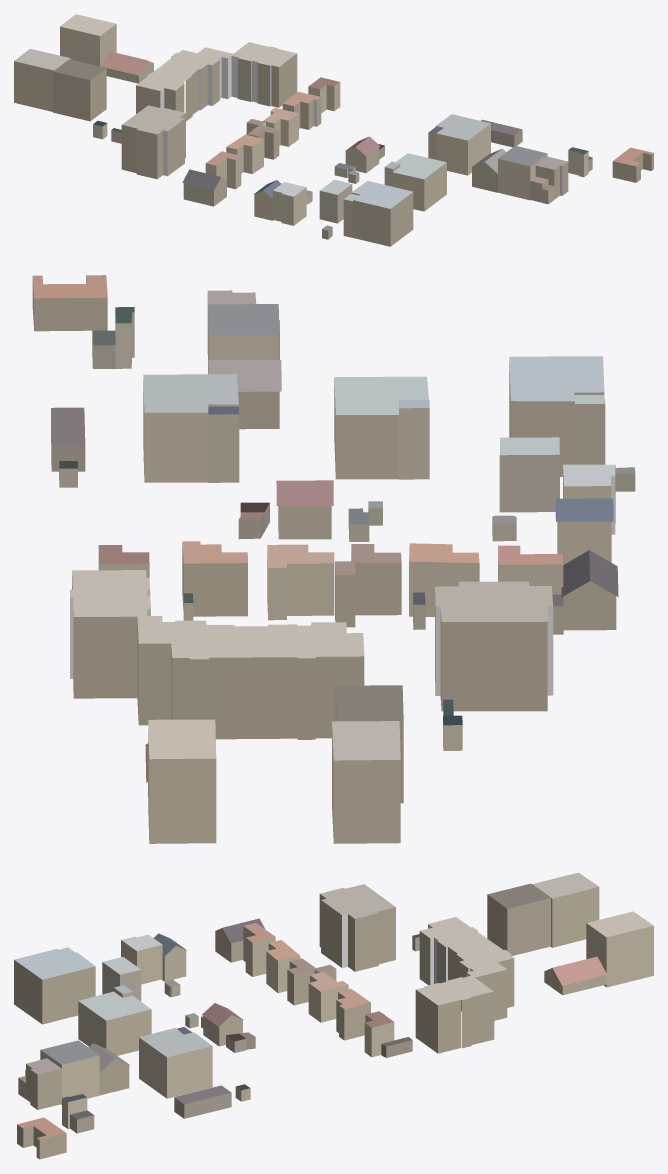
The picture shows the model from 3 angles, top to bottom: view 1: azimuth 30°, elevation 25°; view 2: azimuth 150°, elevation 25°; view 3: azimuth 270°, elevation 25°; orthographic projection. The views are drawn at different scales.
Visible parts, largest first — view 1: tuile; view 2: tuile; view 3: tuile.
Boxes of the visible parts, x1=… form: tuile: x1=14, y1=14, x2=653, y2=246; tuile: x1=32, y1=275, x2=635, y2=843; tuile: x1=14, y1=872, x2=653, y2=1159.
Size of the model in its own units: 166 by 18.17 by 189.
